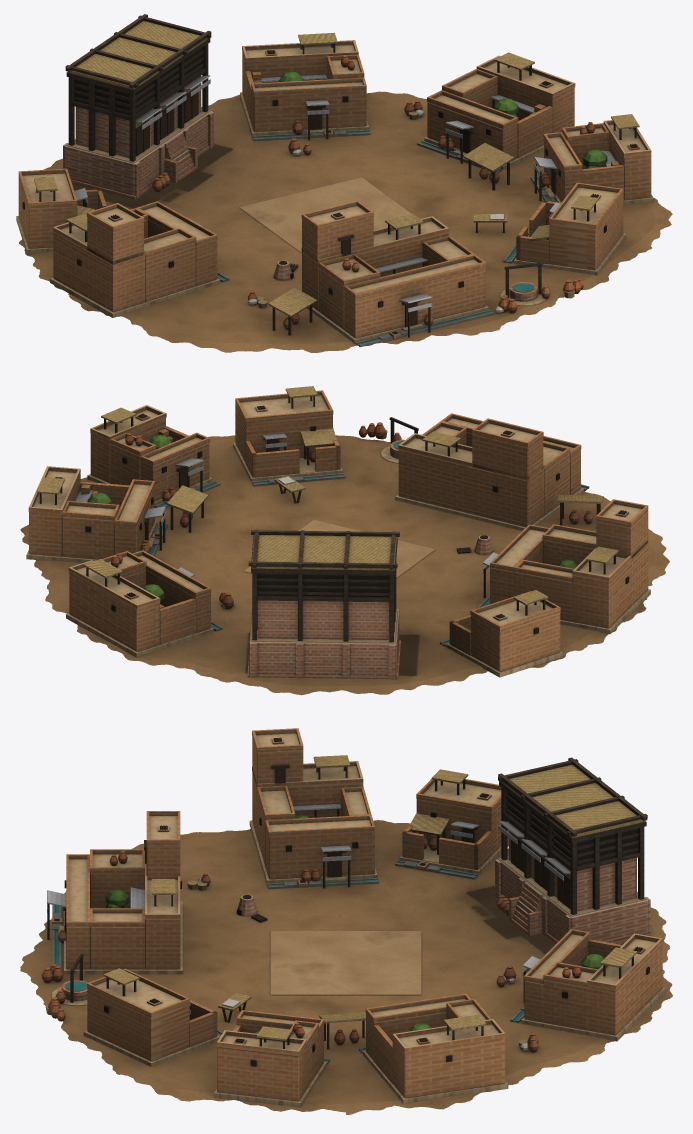
File: bronze-town-small-b-indic.glb
3 renders of one model, top to bottom at view 1: azimuth 30°, elevation 25°; view 2: azimuth 150°, elevation 25°; view 3: azimuth 270°, elevation 25°, orthographic. The views are drawn at different scales.
Visible parts, largest first — view 1: LOD0; view 2: LOD0; view 3: LOD0.
Part boxes in pixels (<box>): LOD0: <box>16,14,672,352</box>; LOD0: <box>20,386,669,695</box>; LOD0: <box>20,728,672,1114</box>.
Size of what is drawn, in the model's own units: 3.98 by 0.7726 by 3.71.
Materials: 3 (3 with a texture image).
